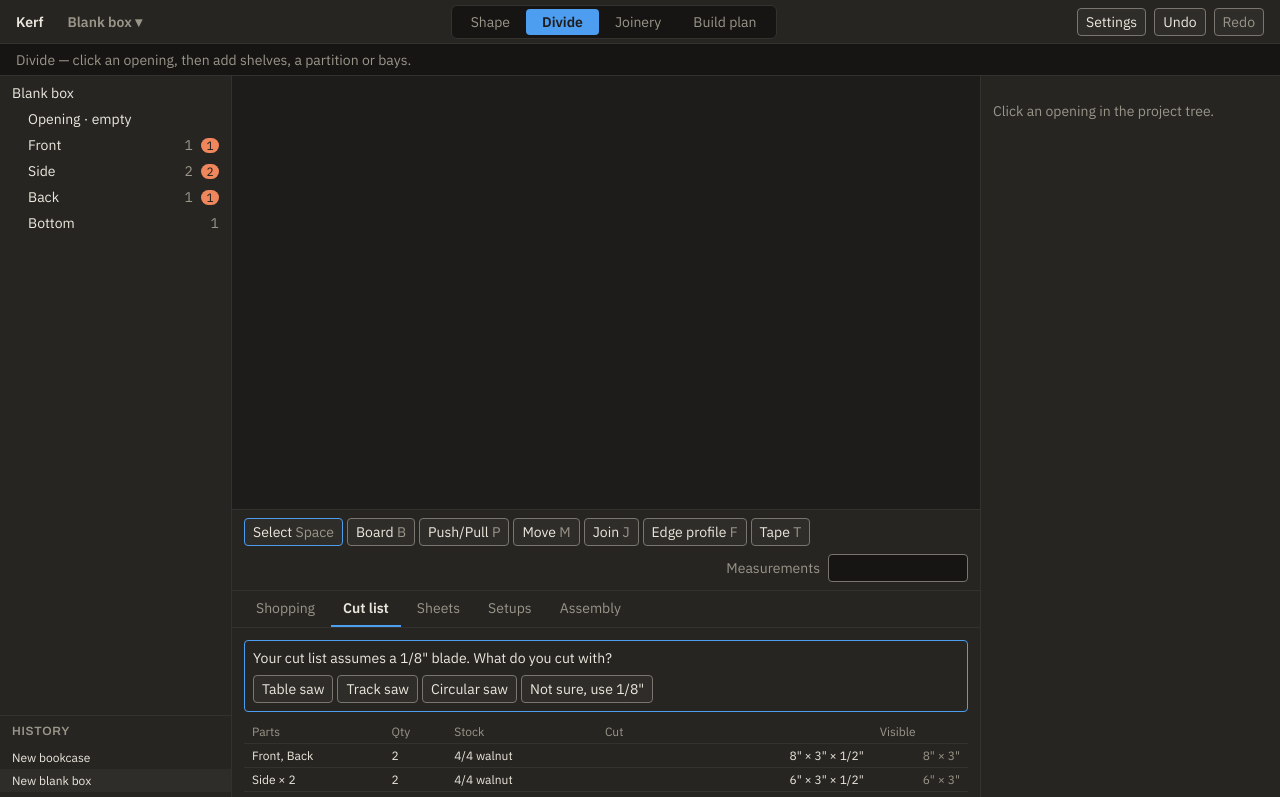
Test: <TopBar> tips › describes Shape for the kind of project that is open
Hover over the button "Shape" at (490, 22), box 455,8 -> 526,34
Wait 500 ms
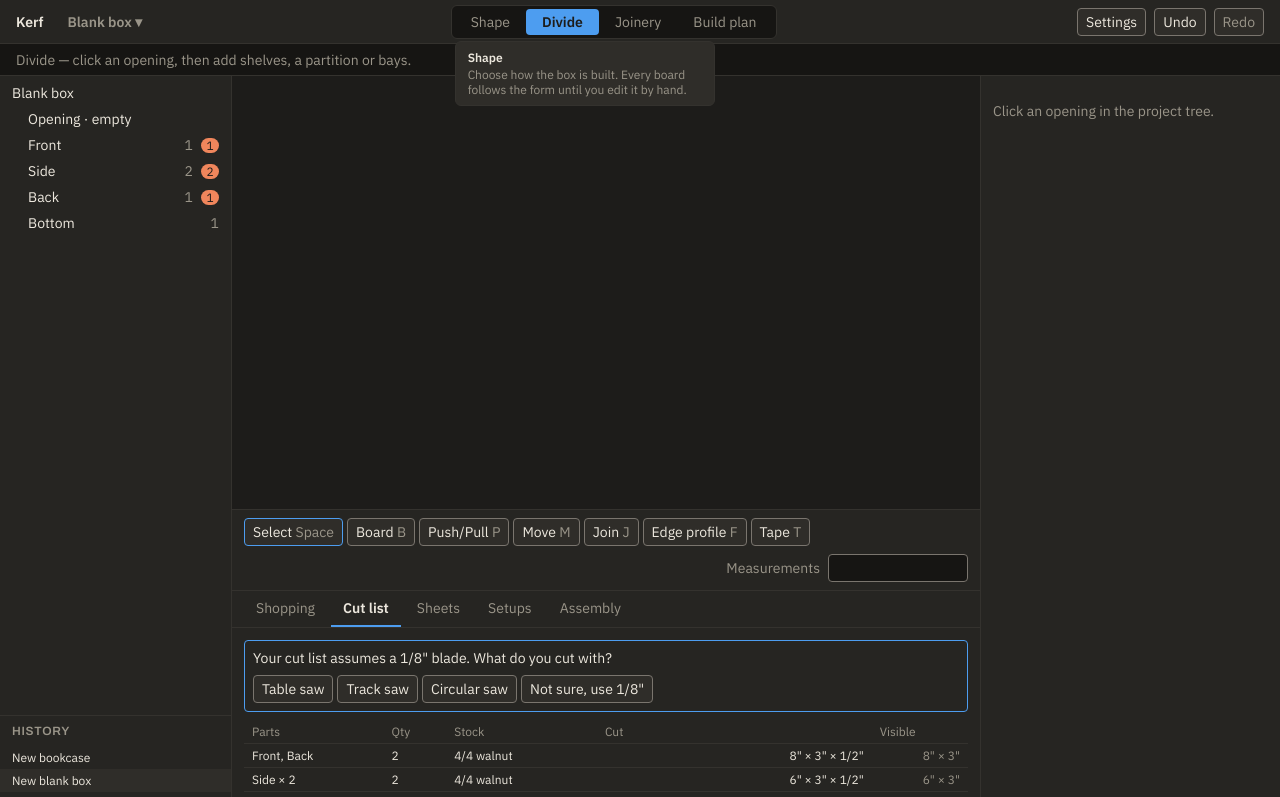
Check: the tooltip shows "how the box is built", box 468,66 -> 687,96
